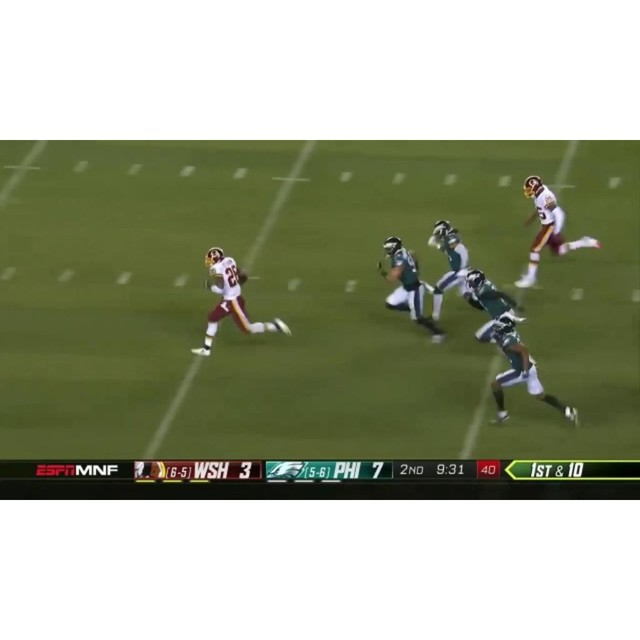american-football-player: (483, 314, 577, 430), (194, 246, 290, 357), (516, 174, 604, 287), (377, 235, 447, 342), (424, 220, 484, 319)
